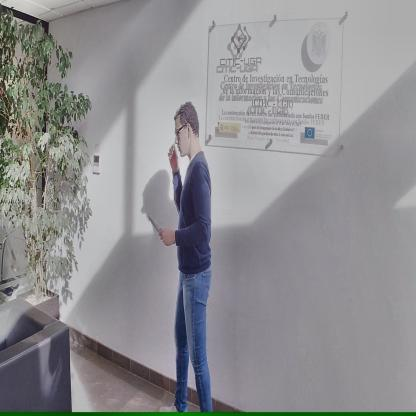knife: (146, 212, 167, 245)
